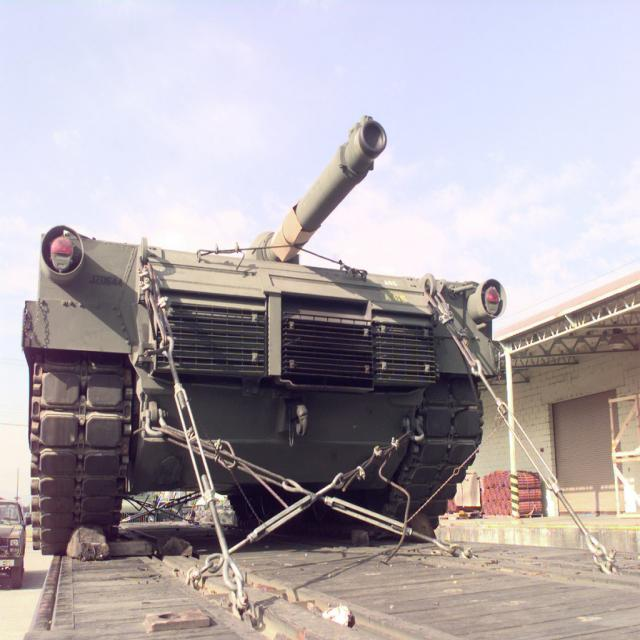tank: (20, 114, 502, 557)
